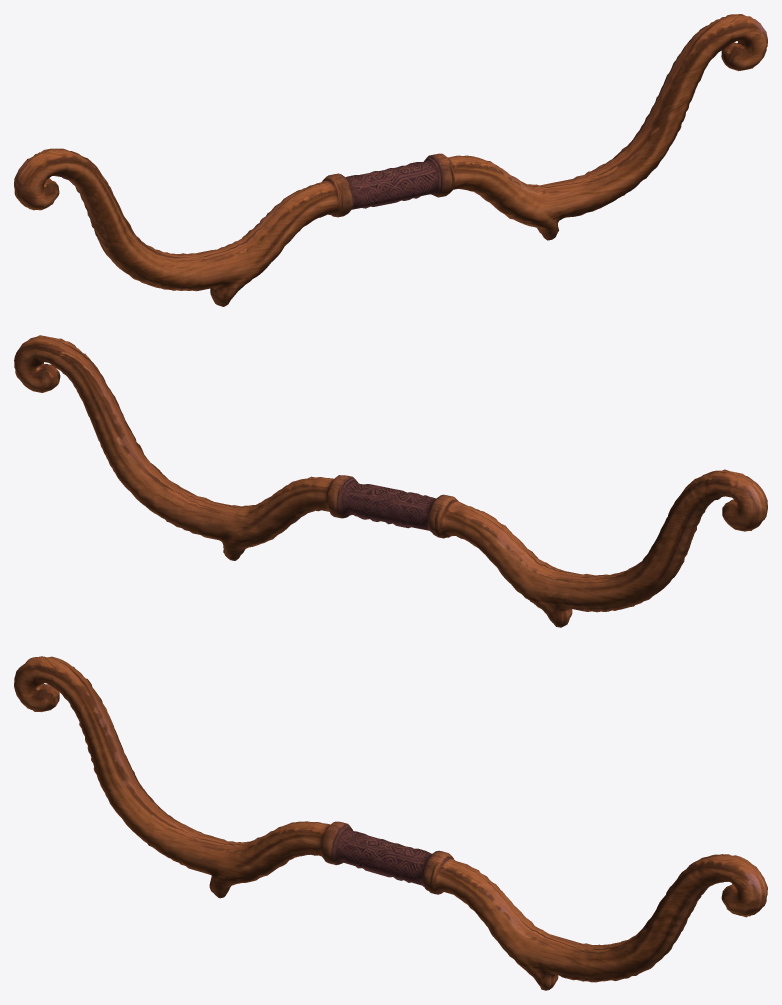
File: Growth.glb
3 views of the same model, one above another, from view 1: azimuth 30°, elevation 25°; view 2: azimuth 150°, elevation 25°; view 3: azimuth 330°, elevation 25° (orthographic).
Visible parts, largest first — view 1: Mesh_0; view 2: Mesh_0; view 3: Mesh_0.
Boxes of the visible parts, left/top/right/bottom form: Mesh_0: left=14, top=14, right=767, bottom=306; Mesh_0: left=14, top=335, right=767, bottom=627; Mesh_0: left=14, top=656, right=767, bottom=990.
Size of the model in its own units: 1.21 by 0.3213 by 0.062.
1 material, 1 textured.
